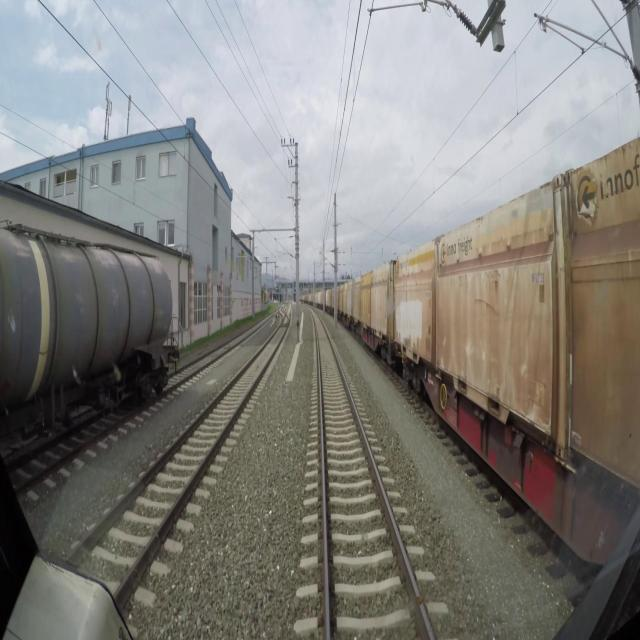rail-track: (74, 317, 286, 587)
